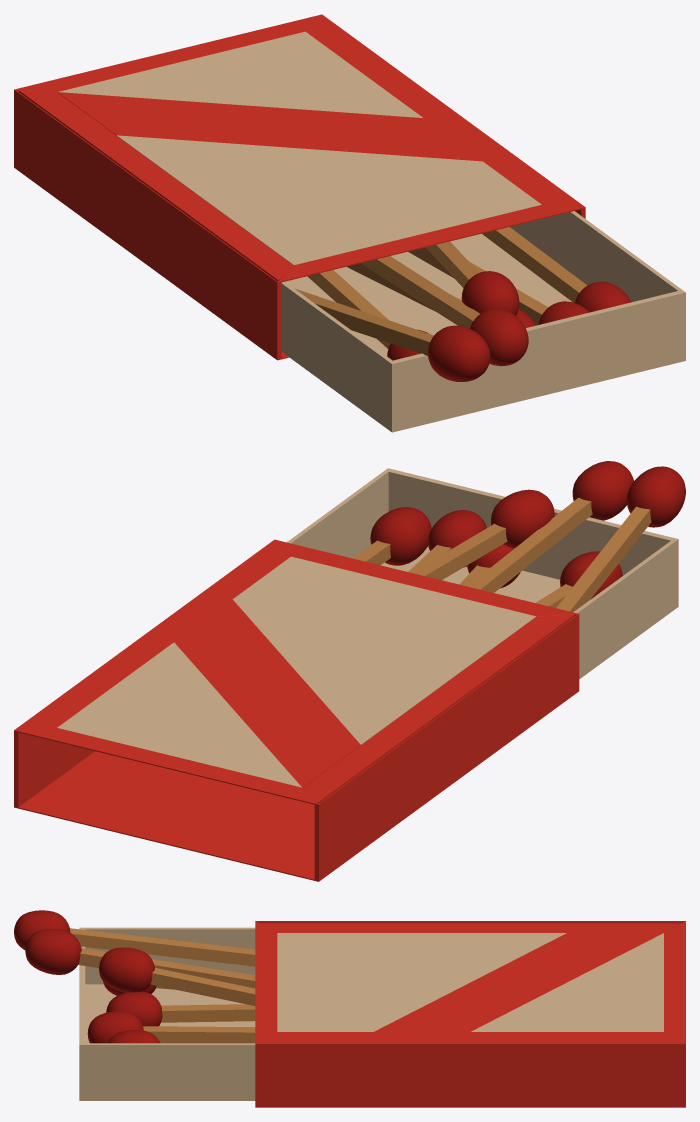
Rendered from streichhölzer.fbx.
3 views of the same model, one above another, from view 1: azimuth 30°, elevation 25°; view 2: azimuth 150°, elevation 25°; view 3: azimuth 270°, elevation 25° (orthographic). The views are drawn at different scales.
Visible parts, largest first — view 1: Cube.002; view 2: Cube.002; view 3: Cube.002.
Part boxes in pixels (x1=…): Cube.002: x1=14, y1=14, x2=685, y2=432; Cube.002: x1=14, y1=461, x2=685, y2=881; Cube.002: x1=14, y1=910, x2=685, y2=1107.
Size of the model in its own units: 3.17 by 1.12 by 7.33.
